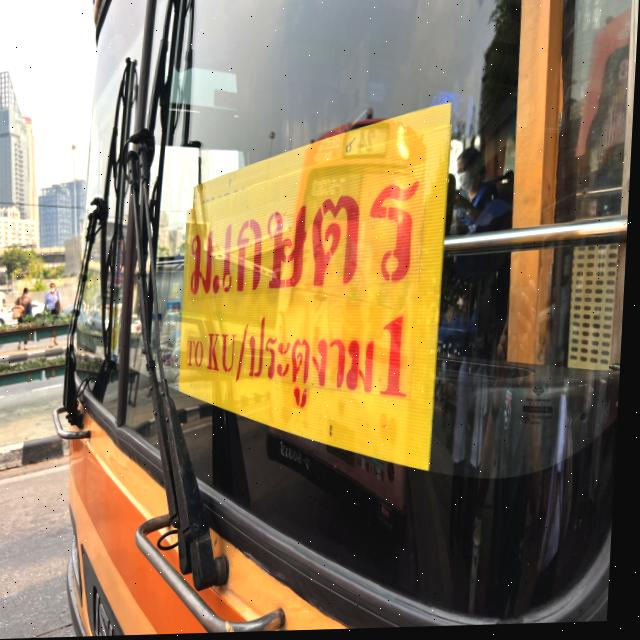BMTA-bus: (49, 0, 640, 638)
Destination-Sign-Extra-Bus-Expressway: (179, 103, 454, 478)
